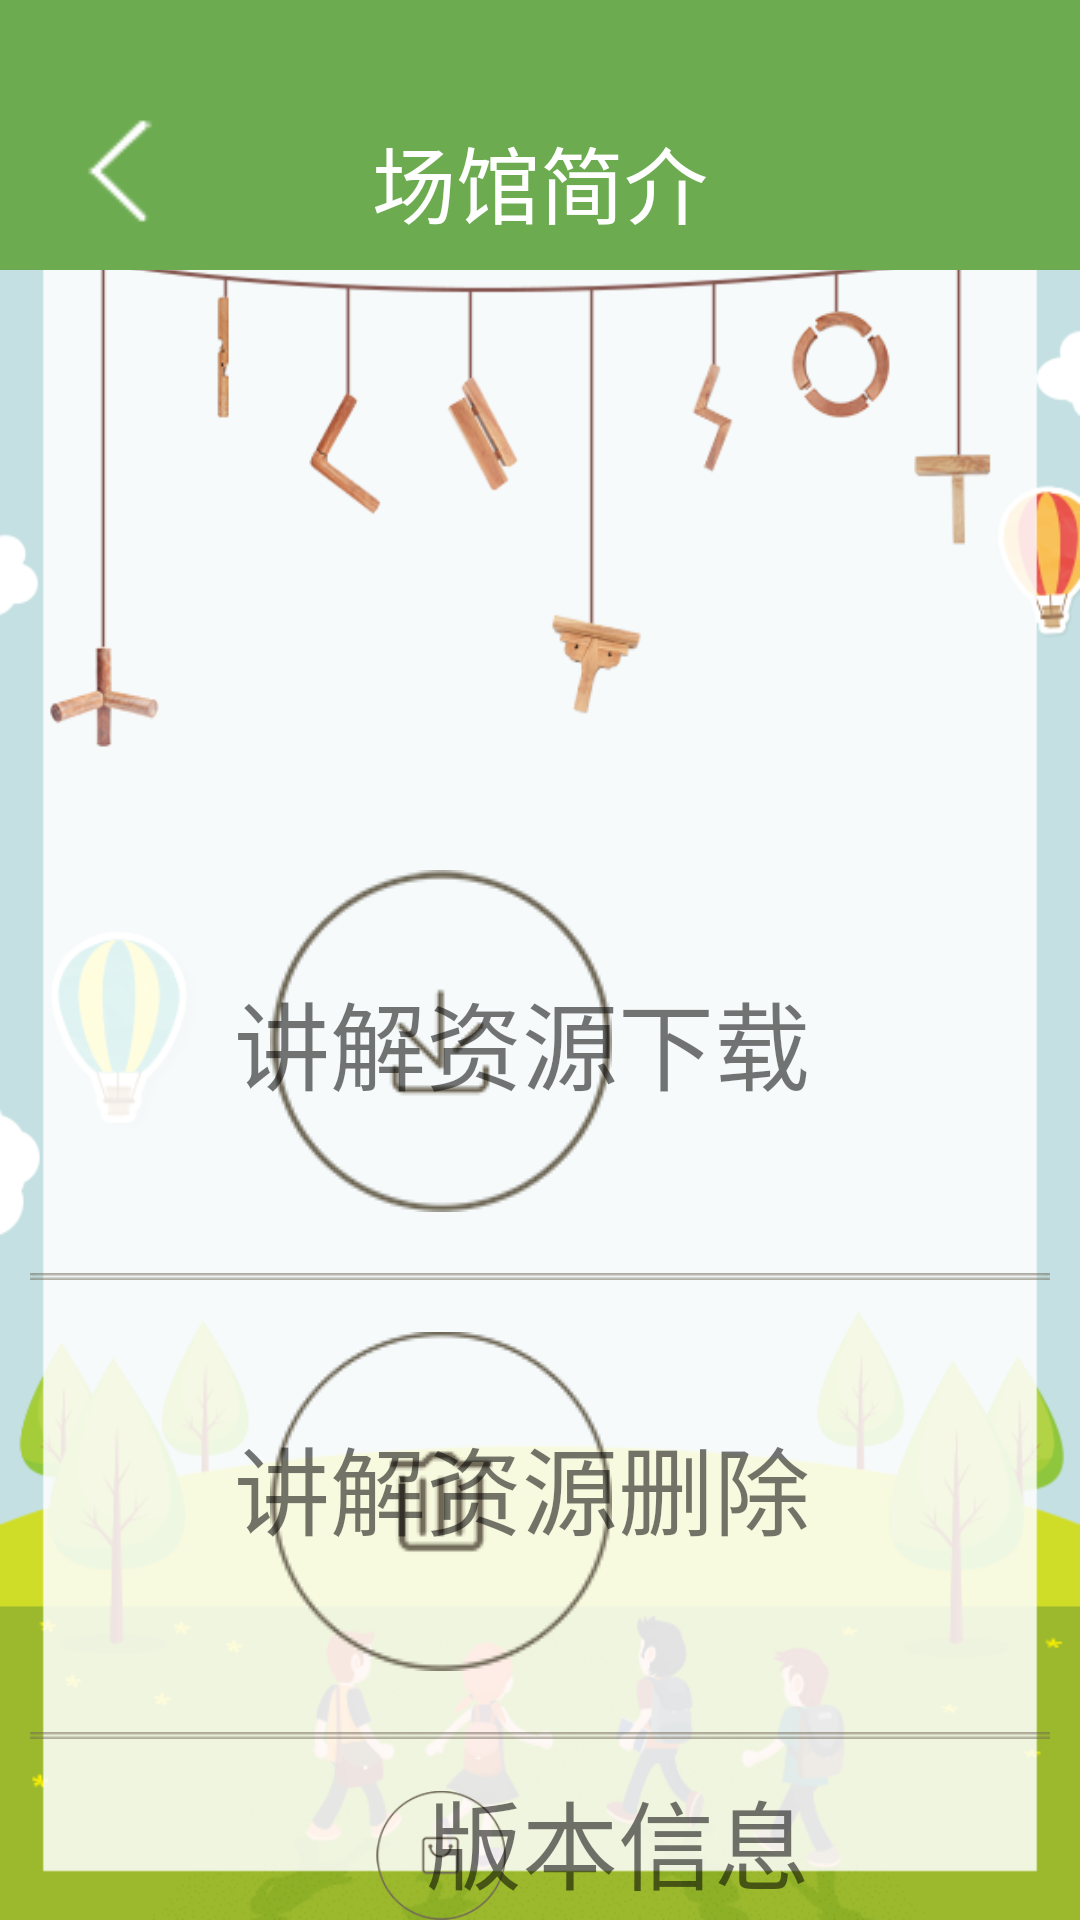

Icon click points for this 1080×1920 phone screenshot, format point (x, y):
dao back: point (120, 171)
